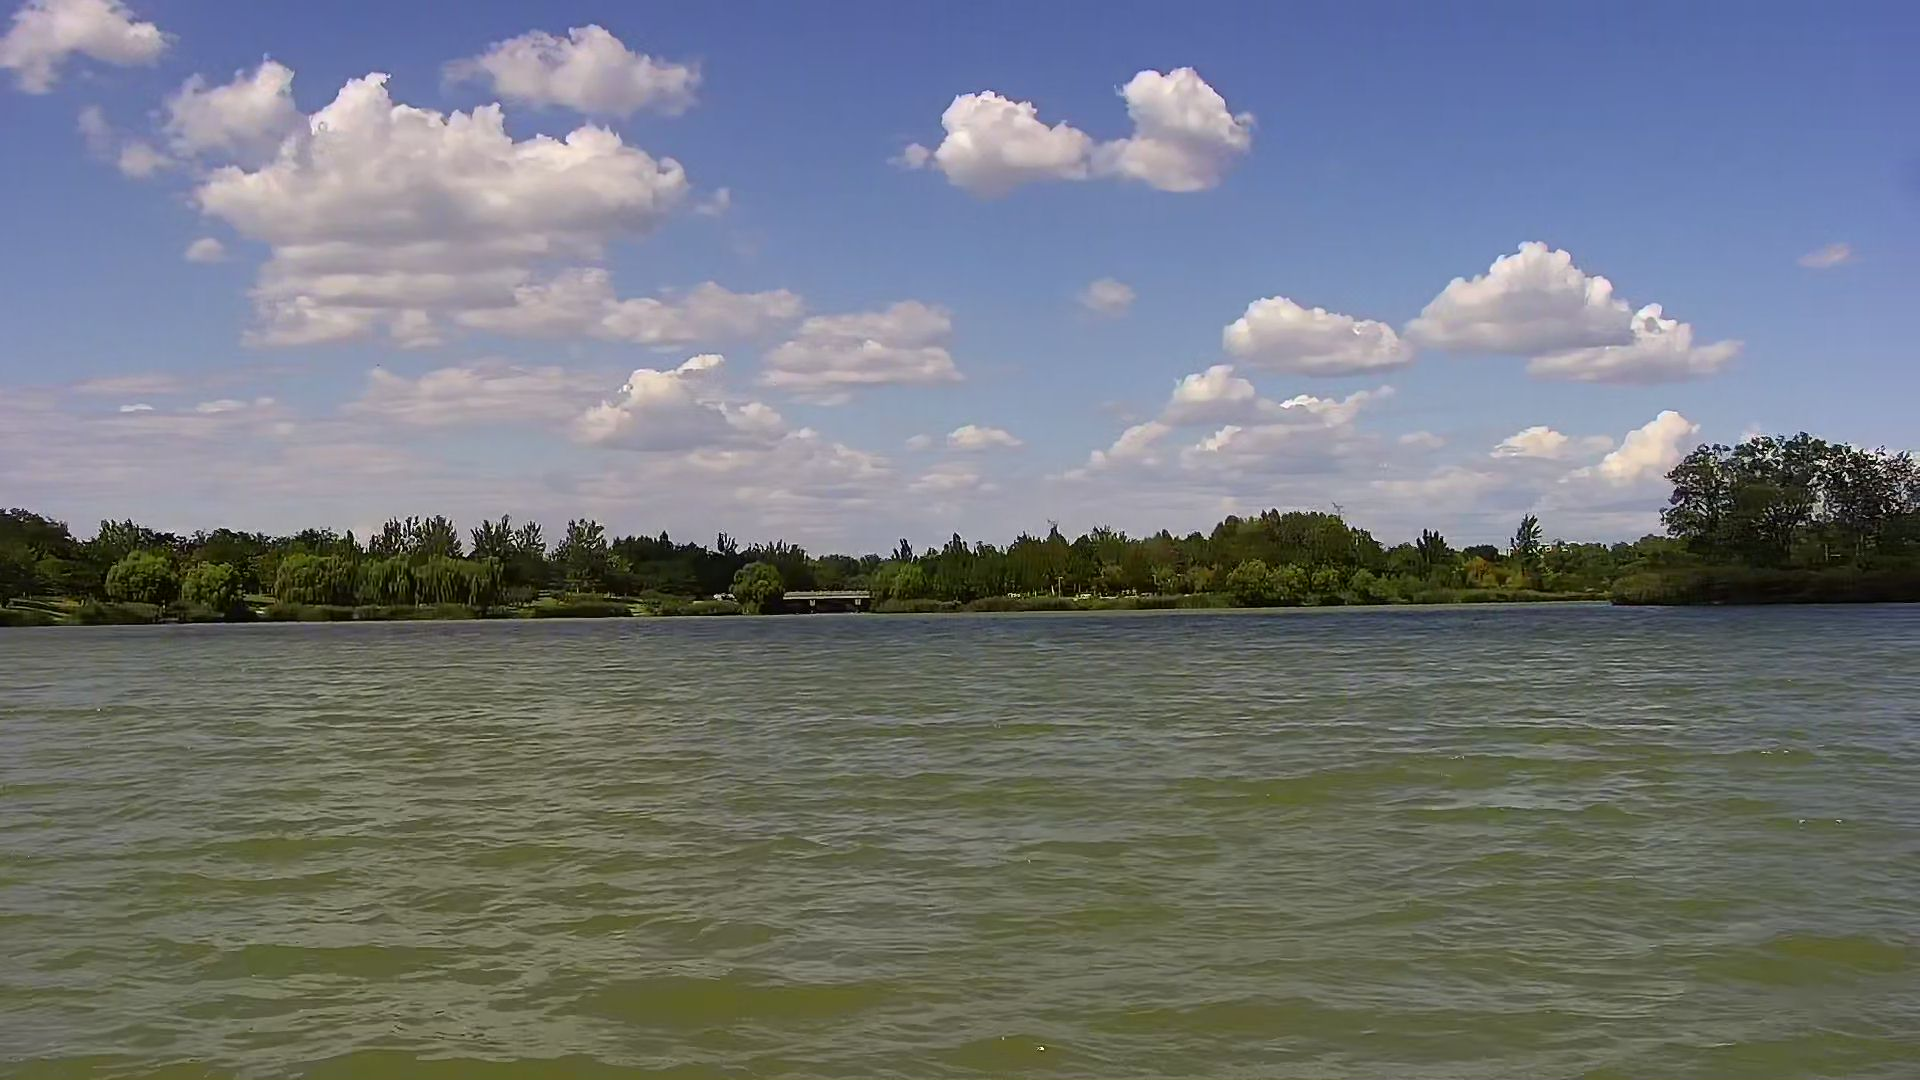bridge: (785, 587, 869, 617)
